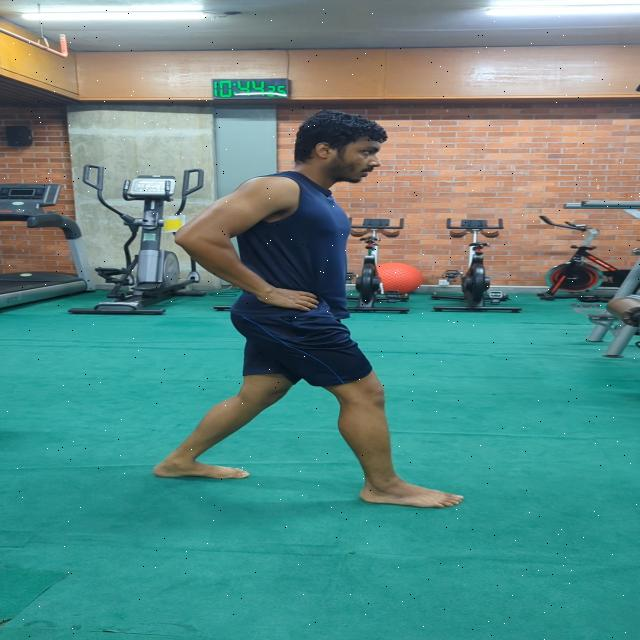Normal_Lunges: (142, 106, 480, 510)
